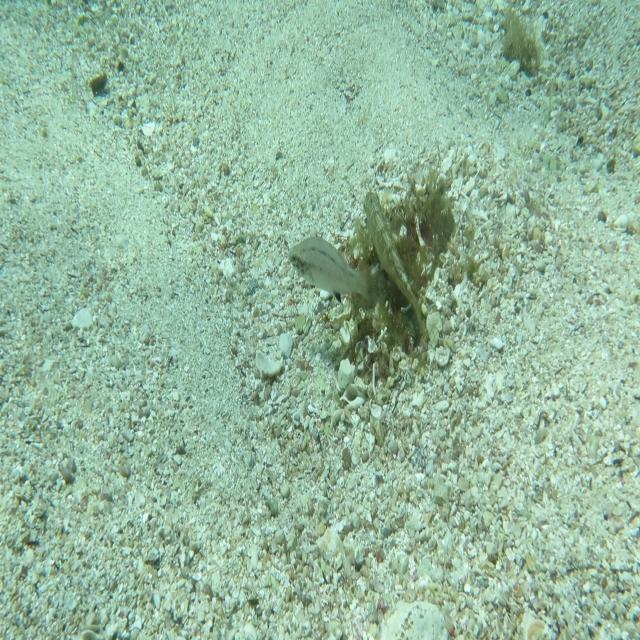ROLL: (362, 182, 429, 349)
female: (285, 235, 387, 318)
nest: (334, 168, 466, 387)
